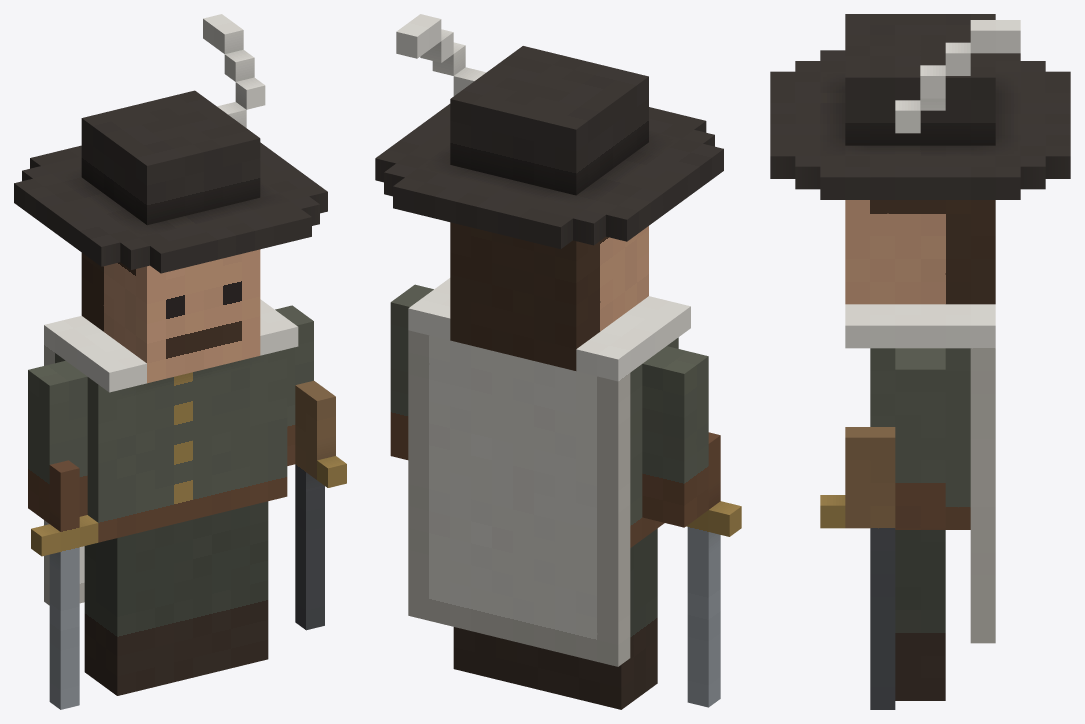
The model's file is hero.glb.
The picture shows the model from 3 angles, left to right: view 1: azimuth 30°, elevation 25°; view 2: azimuth 150°, elevation 25°; view 3: azimuth 270°, elevation 25°; orthographic projection. The views are drawn at different scales.
Visible parts, largest first — view 1: body, leg_r, leg_l, paint, gun, sword, arm_r, arm_l; view 2: paint, body, arm_r, leg_r, sword, leg_l, arm_l; view 3: body, paint, gun, arm_l, leg_l.
Boxes of the visible parts, x1=… form: body: x1=14, y1=90, x2=327, y2=542; leg_r: x1=84, y1=519, x2=192, y2=695; leg_l: x1=193, y1=501, x2=268, y2=677; paint: x1=44, y1=14, x2=298, y2=605; gun: x1=295, y1=380, x2=346, y2=630; sword: x1=31, y1=460, x2=98, y2=709; arm_r: x1=28, y1=360, x2=87, y2=523; arm_l: x1=275, y1=305, x2=313, y2=465; paint: x1=396, y1=14, x2=690, y2=666; body: x1=375, y1=46, x2=723, y2=547; arm_r: x1=642, y1=346, x2=708, y2=527; leg_r: x1=537, y1=528, x2=657, y2=709; sword: x1=686, y1=432, x2=741, y2=707; leg_l: x1=453, y1=627, x2=537, y2=689; arm_l: x1=390, y1=284, x2=433, y2=459; body: x1=770, y1=14, x2=1070, y2=529; paint: x1=845, y1=20, x2=1020, y2=643; gun: x1=820, y1=427, x2=895, y2=709; arm_l: x1=895, y1=348, x2=945, y2=528; leg_l: x1=895, y1=530, x2=945, y2=700.
Size of the model in its own units: 0.9375 by 1.88 by 0.75.
8 materials, 8 textured.
